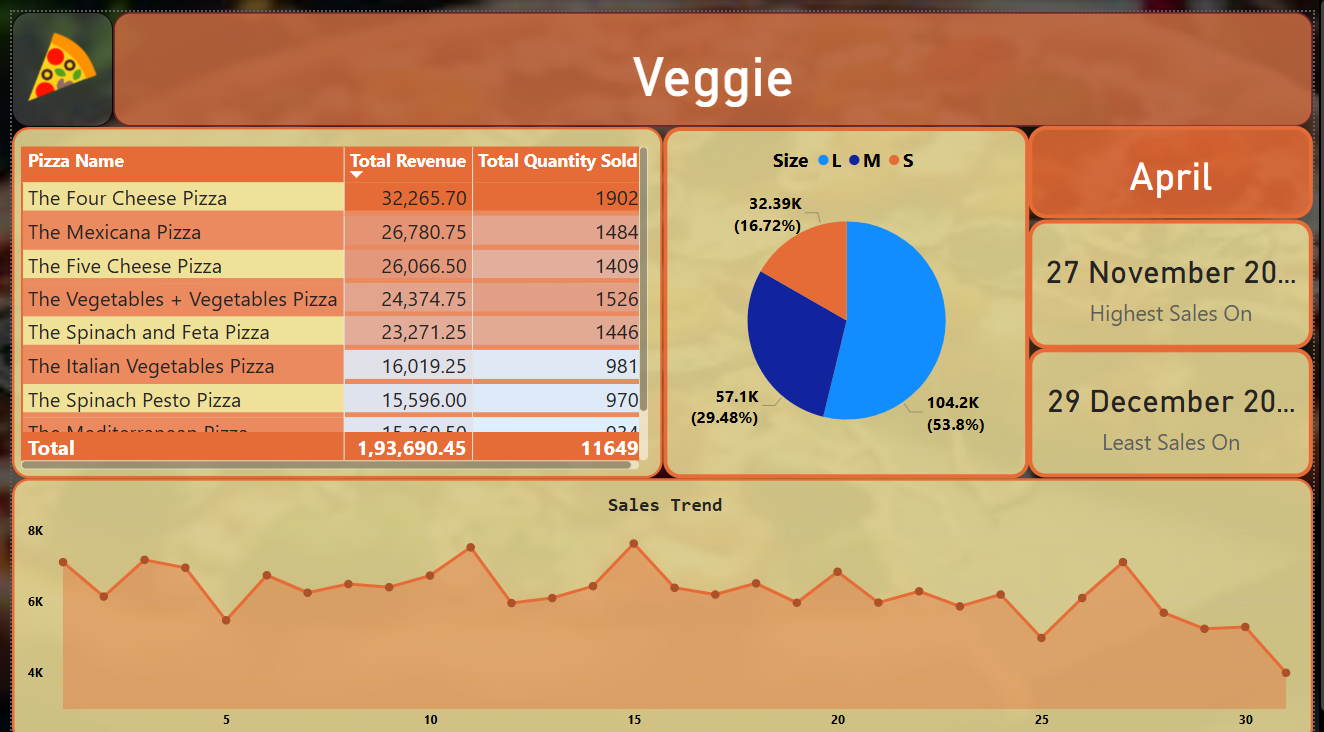

This screenshot's page, from the dashboard's own definition file:
{"tool":"powerbi","page":{"name":"Category Details","canvas":[1280,720],"ordinal":1},"visuals":[{"type":"card","fields":{"Values":["Max(pizza_types.category)"]},"box":[99.6,0,1180.2,112.5],"z":0},{"type":"lineChart","title":"Sales Trend","fields":{"Y":["order_details.Total_Sales"],"Category":["orders.date.Variation.Date Hierarchy.Month","orders.date.Variation.Date Hierarchy.Day"]},"box":[0,459,1280,261.2],"z":1000},{"type":"actionButton","box":[0,0,99.6,112.5],"z":2000},{"type":"tableEx","fields":{"Values":["pizza_types.name","order_details.Total_Sales","Sum(order_details.quantity)"]},"box":[0,112.9,640,345.7],"z":3000},{"type":"pieChart","fields":{"Y":["order_details.Total_Sales"],"Category":["pizzas.size"]},"box":[640,112.9,360,345.7],"z":4000},{"type":"card","title":"Highest Sales","fields":{"Values":["Min(orders.date)"]},"box":[1000,203.8,280,127.5],"z":5000},{"type":"card","fields":{"Values":["Min(orders.date)"]},"box":[1000,331.2,280,127.5],"z":6000},{"type":"card","fields":{"Values":["Min(orders.date.Variation.Date Hierarchy.Month)"]},"box":[1000,112.5,280,91.2],"z":6001}]}

Visuals, with their boxes in screenshot pixels (x1, y1, x2, y2), scaled from the page's 1280x720 canvas onto the 1324x732 screenshot:
card - Max(pizza_types.category): {"left": 103, "top": 0, "right": 1323, "bottom": 114}
"Sales Trend" lineChart: {"left": 0, "top": 467, "right": 1323, "bottom": 731}
actionButton: {"left": 0, "top": 0, "right": 103, "bottom": 114}
tableEx - pizza_types.name x order_details.Total_Sales: {"left": 0, "top": 115, "right": 662, "bottom": 466}
pieChart - order_details.Total_Sales x pizzas.size: {"left": 662, "top": 115, "right": 1034, "bottom": 466}
"Highest Sales" card: {"left": 1034, "top": 207, "right": 1323, "bottom": 337}
card - Min(orders.date): {"left": 1034, "top": 337, "right": 1323, "bottom": 466}
card - Min(orders.date.Variation.Date Hierarchy.Month): {"left": 1034, "top": 114, "right": 1323, "bottom": 207}
